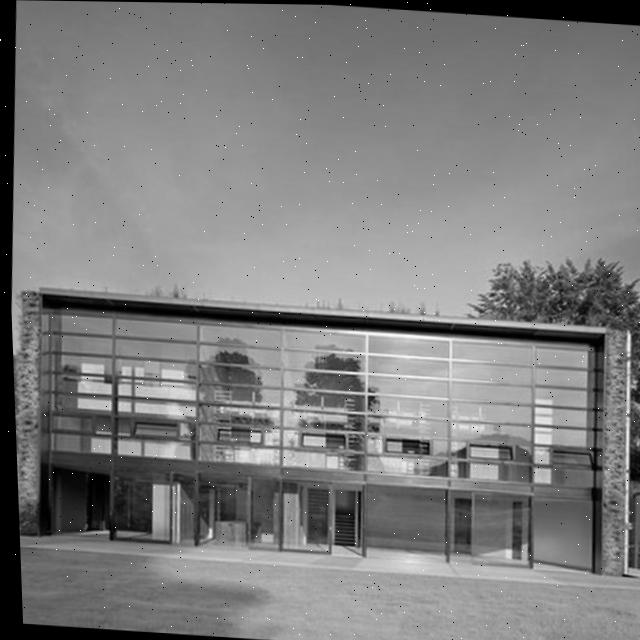building: (10, 281, 640, 579)
